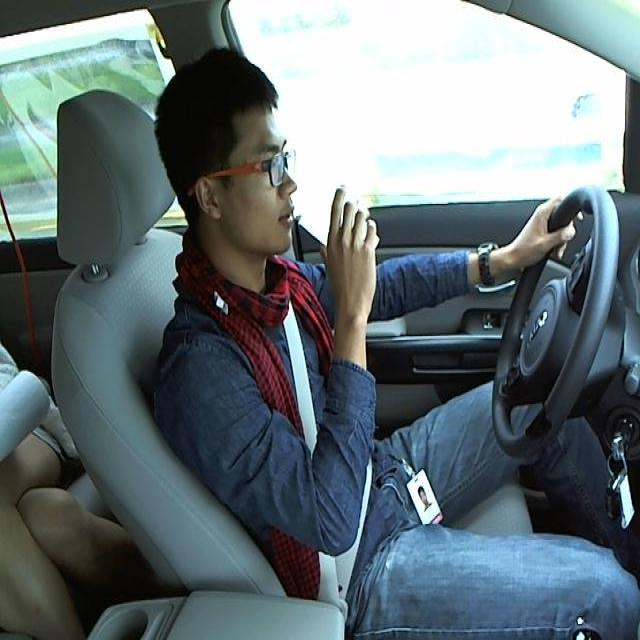Seatbelt: (302, 175, 372, 256)
